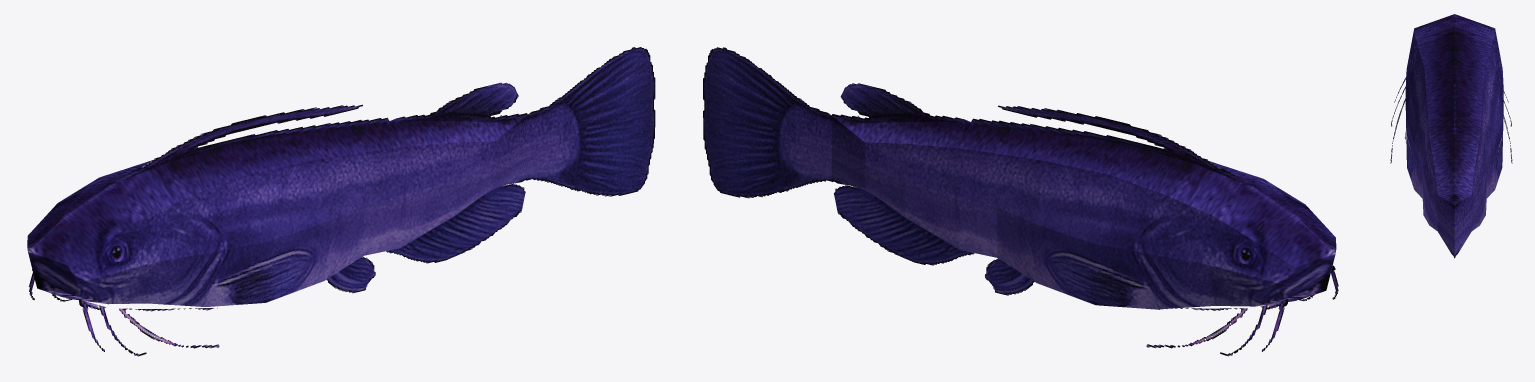
File: Coralix.fbx
The picture shows the model from 3 angles, left to right: view 1: azimuth 30°, elevation 25°; view 2: azimuth 150°, elevation 25°; view 3: azimuth 270°, elevation 25°; orthographic projection. The views are drawn at different scales.
Parts seen in each view (by area): view 1: Catfish; view 2: Catfish; view 3: Catfish.
Part boxes in pixels (left/top/right/bottom): Catfish: left=27, top=47, right=655, bottom=356; Catfish: left=703, top=47, right=1338, bottom=356; Catfish: left=1390, top=14, right=1512, bottom=258.
Size of the model in its own units: 183 by 57.61 by 42.41.
1 material, 1 textured.
